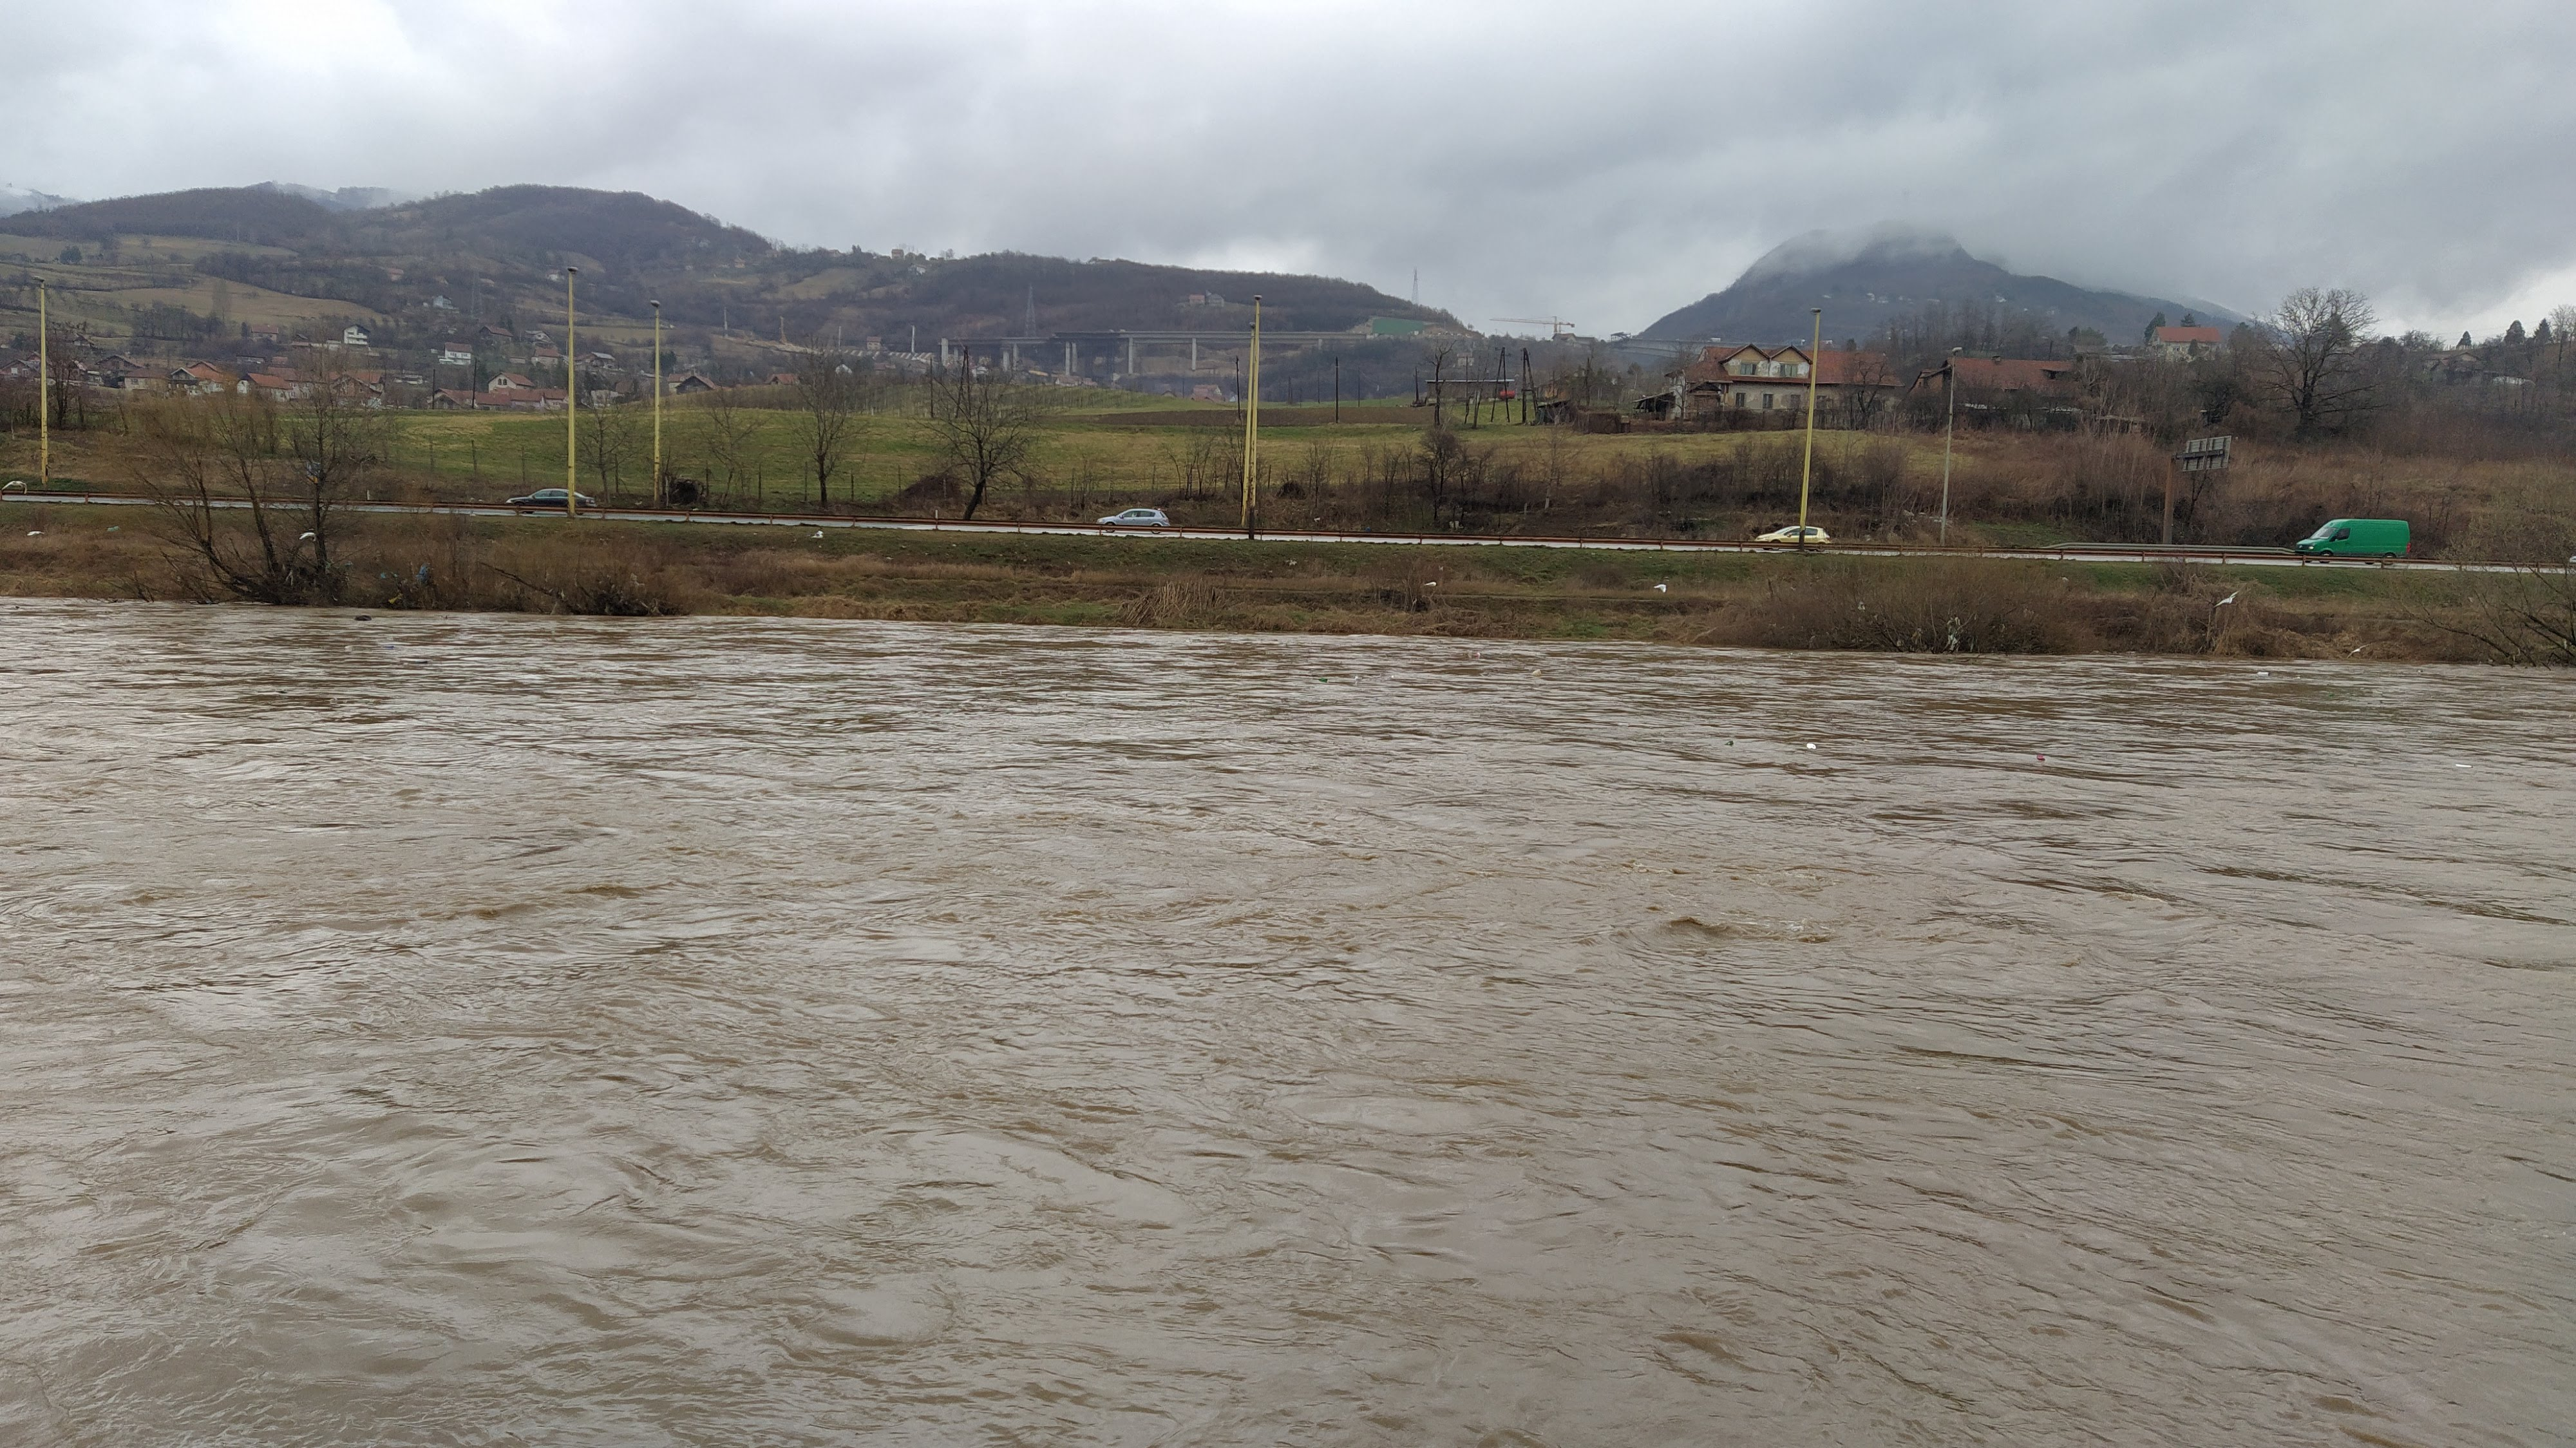Plastic Bottle: (2457, 763, 2473, 768), (2258, 671, 2270, 676), (343, 644, 352, 650), (1532, 669, 1541, 674), (2036, 754, 2045, 759), (416, 660, 426, 664), (1472, 653, 1481, 657), (1725, 740, 1732, 743), (2328, 692, 2335, 696), (382, 646, 395, 648), (1320, 678, 1325, 682)
